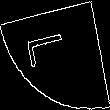L_E: (31, 34, 79, 76)
